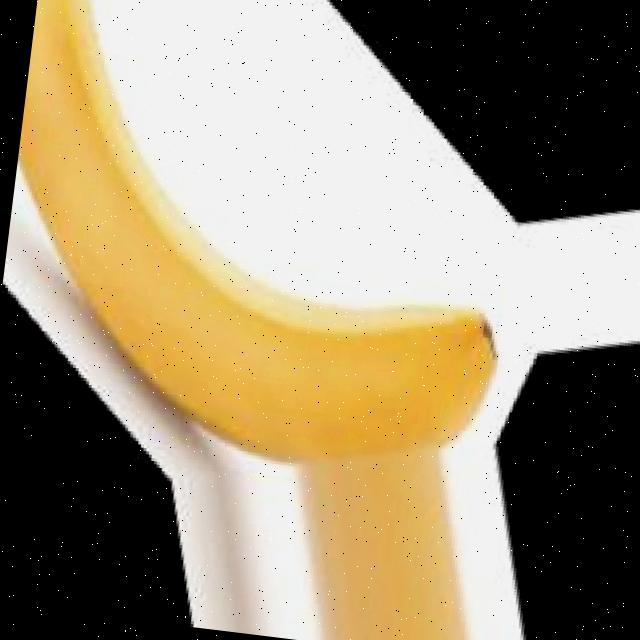banana: (0, 0, 544, 486)
